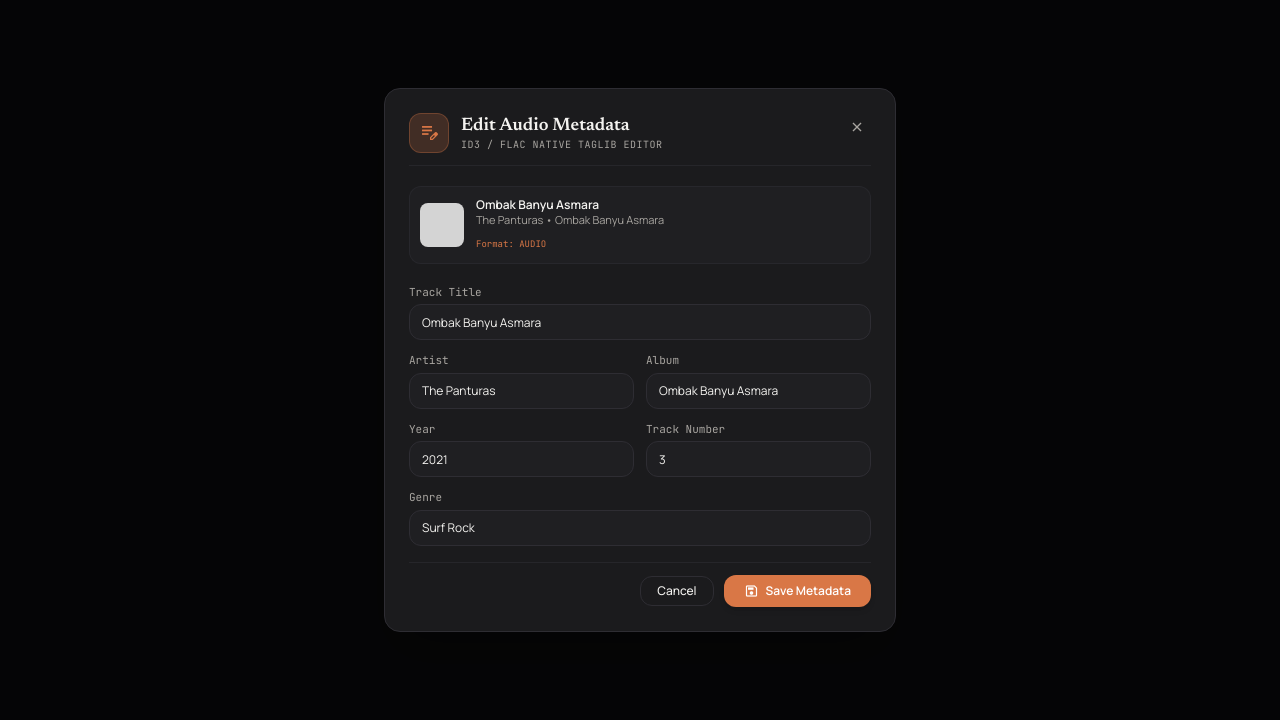
Test: EditTagsModal › handles submission errors gracefully
Click the button "Save Metadata".
click(797, 591)  # box [724,575,871,607]
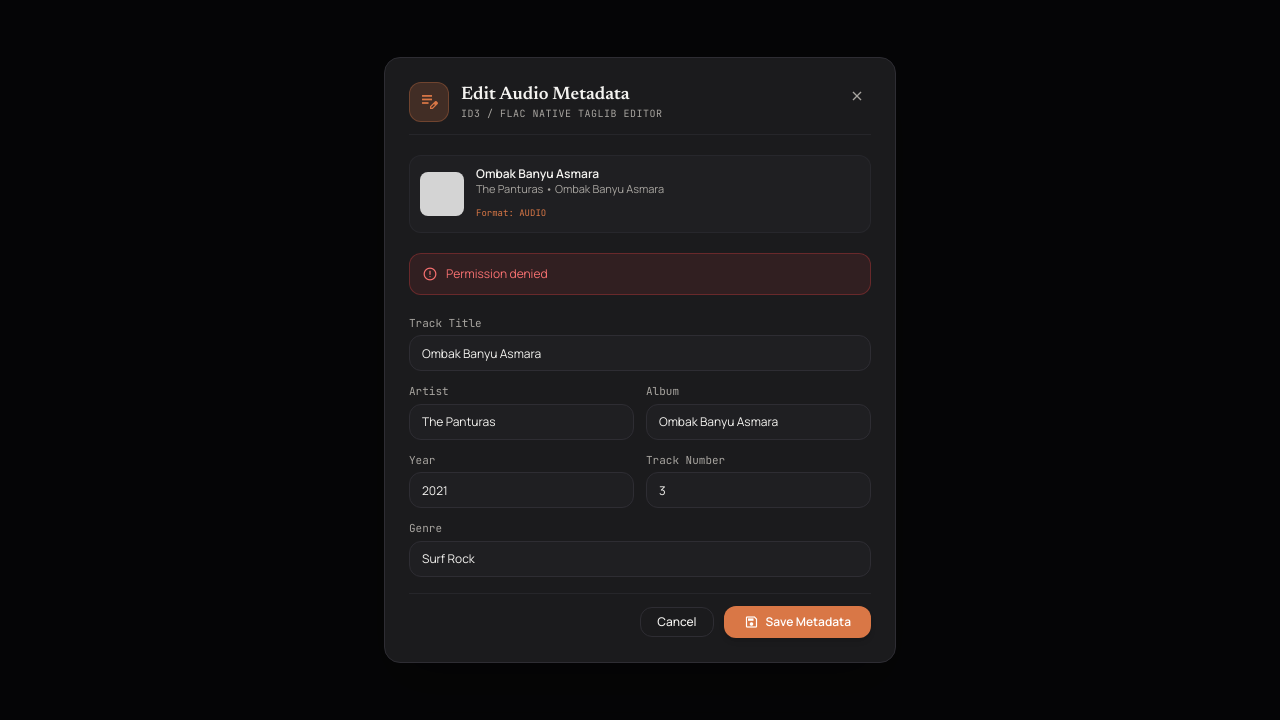
Now the text "Permission denied" is shown, box [446,266,548,282]
